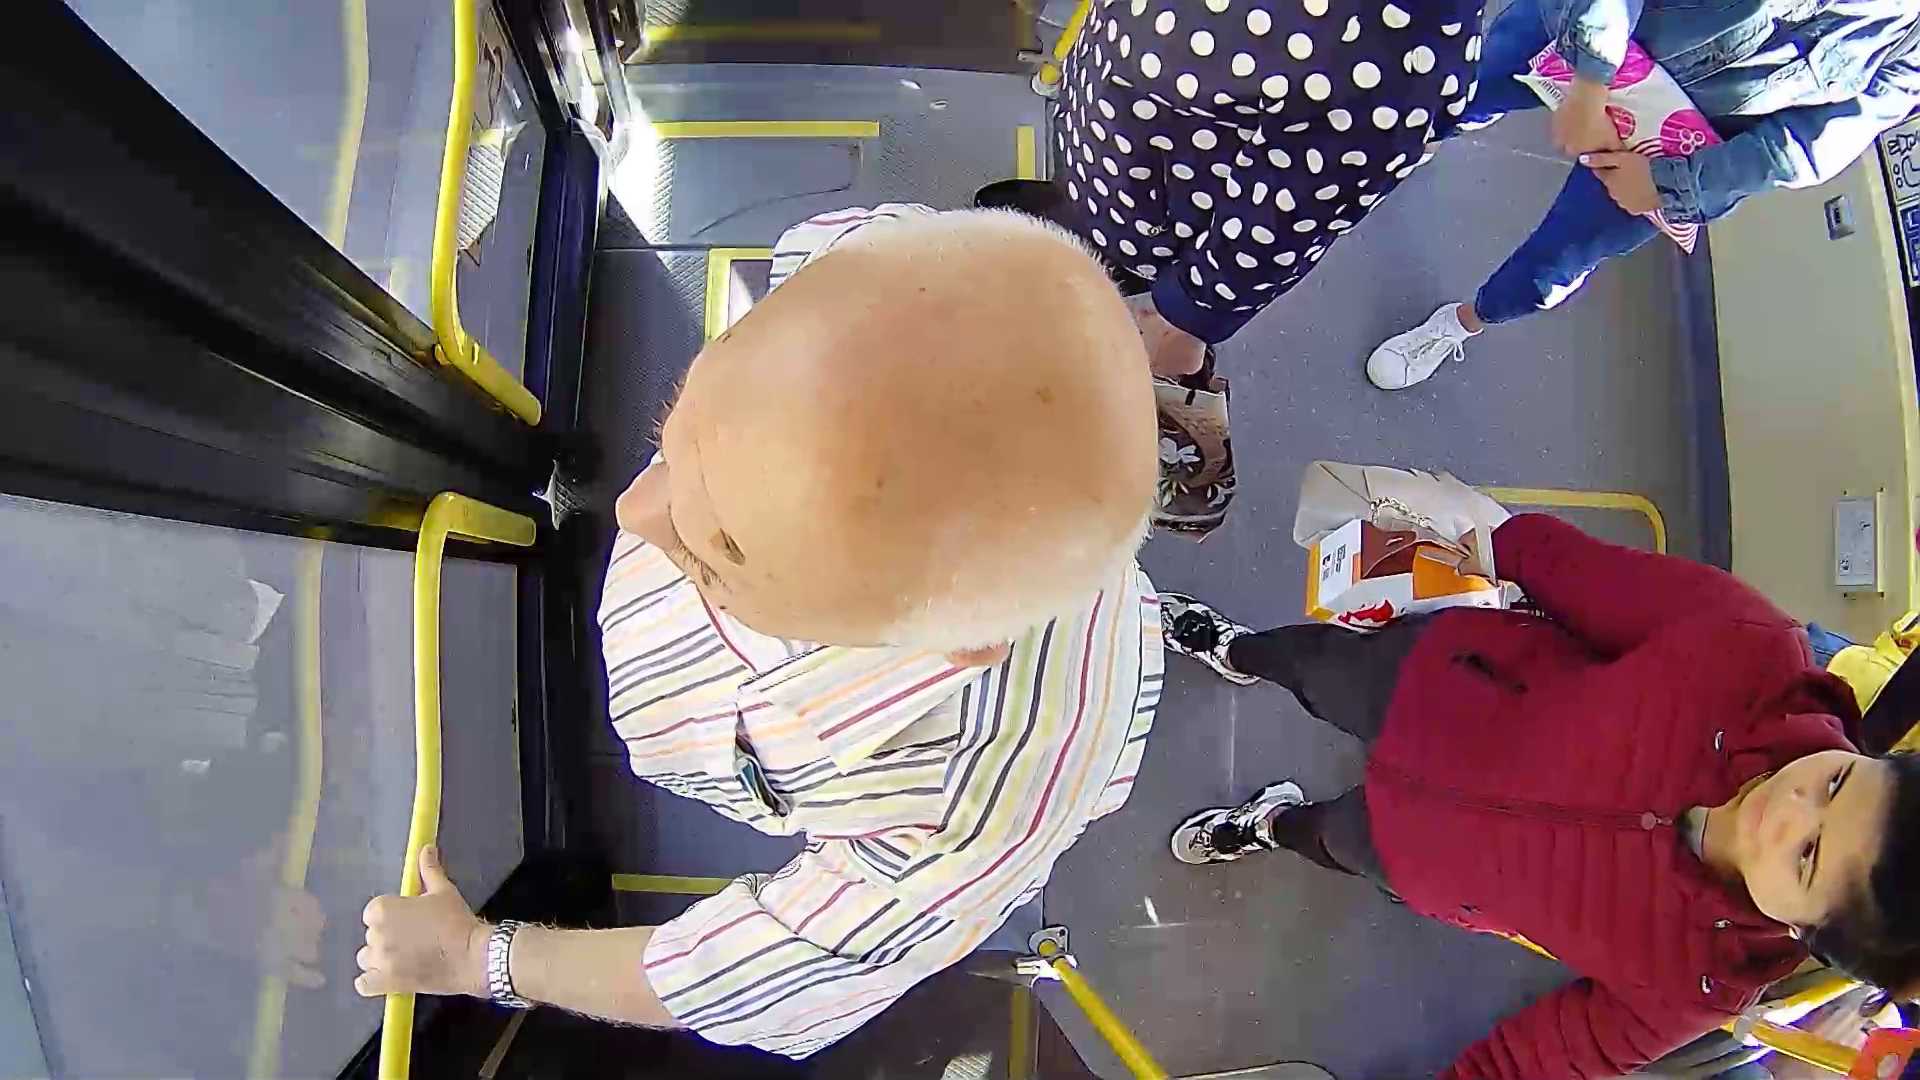person: (380, 218, 1218, 937), (1291, 440, 1904, 990)
